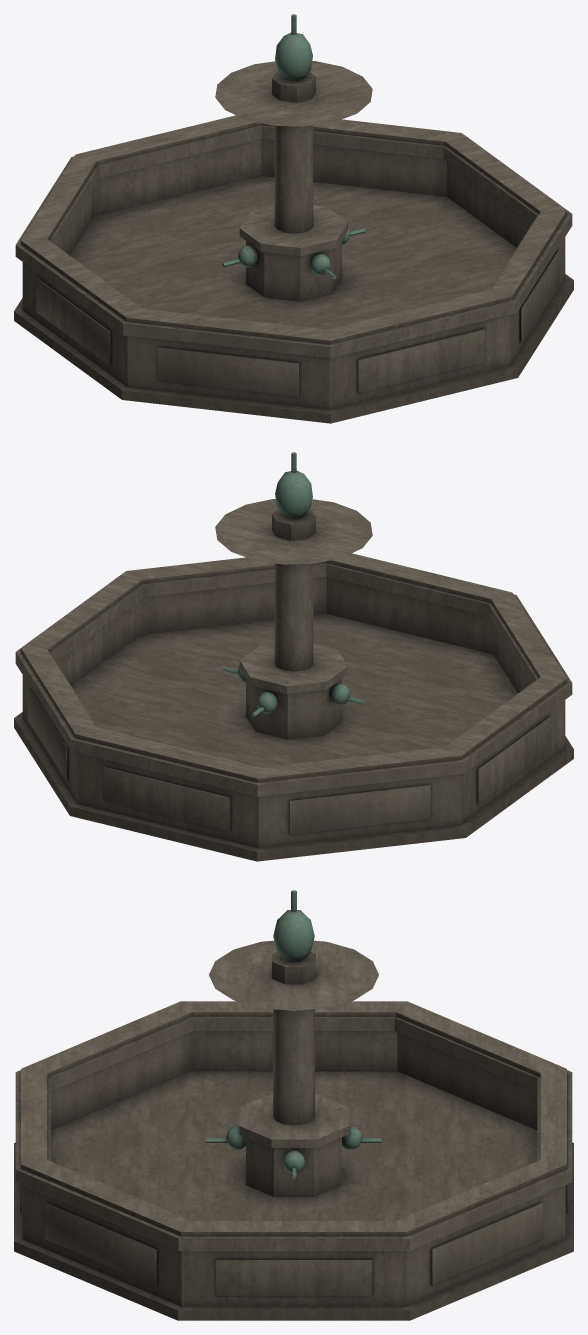
The model's file is fountain_town.glb.
3 renders of one model, top to bottom at view 1: azimuth 30°, elevation 25°; view 2: azimuth 150°, elevation 25°; view 3: azimuth 270°, elevation 25°, orthographic. The views are drawn at different scales.
Visible parts, largest first — view 1: fountain_town; view 2: fountain_town; view 3: fountain_town.
Boxes of the visible parts, bbox=[...] form: fountain_town: bbox=[14, 14, 573, 423]; fountain_town: bbox=[14, 452, 573, 861]; fountain_town: bbox=[14, 890, 573, 1320].
Bounding box in the file's own units: 5.91 × 3.62 × 5.91.
1 material, 1 textured.
